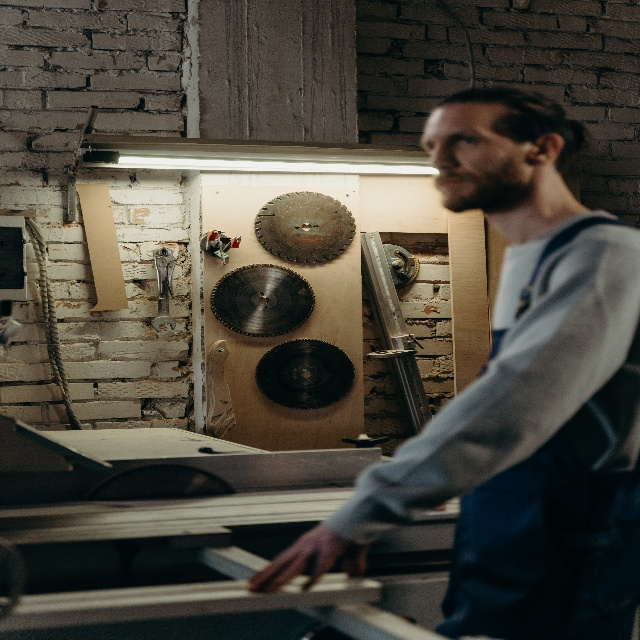Sin_guantes: (248, 524, 368, 594)
